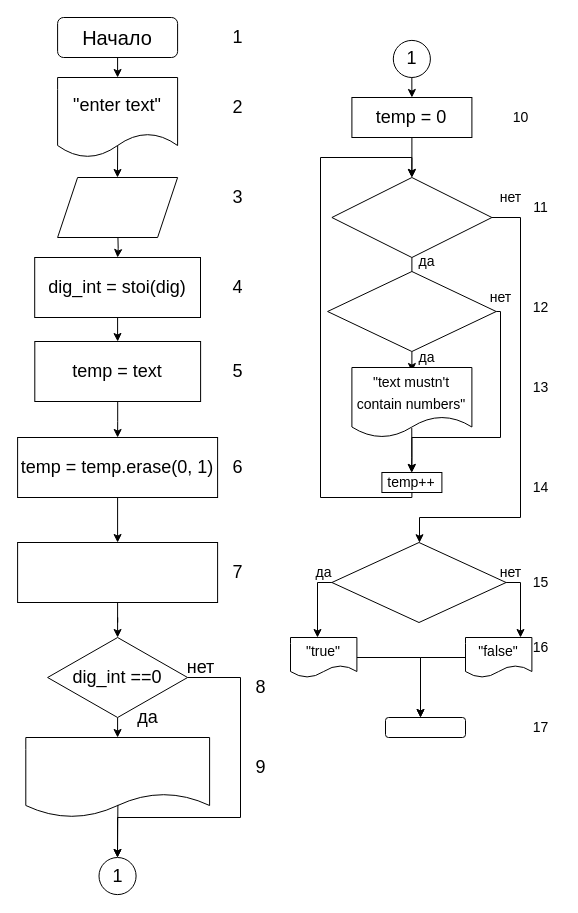
Some shapes in this 578 by 913 pixel diagram are drawn without their labels. Each missing label, with the centre of its shape:
!isalpha(check): point (411, 311)
"The aftertext mustn't contain numbers": point (117, 777)
sravnenie = temp.size(): point (117, 572)
sravnenie == dig_int: point (418, 582)
temp < sravnenie: point (411, 217)
text: point (117, 207)
конец: point (425, 727)
